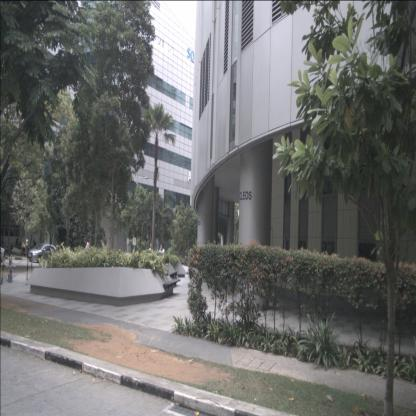human-pedestrian-adult: (82, 236, 90, 274), (158, 243, 165, 273), (148, 241, 154, 273), (19, 238, 22, 254), (16, 238, 18, 254)
vehicle-car: (28, 243, 59, 264), (0, 245, 6, 266)
vehicle-motorcycle: (21, 239, 32, 259)
